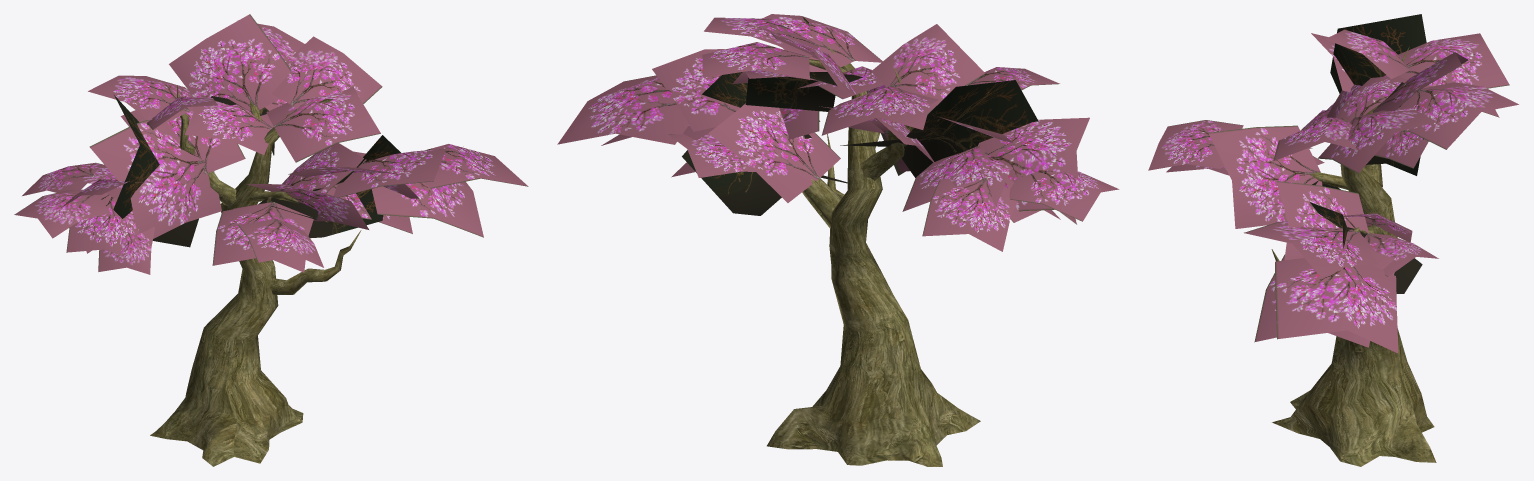
File: Scene_Tree_HongShu_1.FBX
3 views of the same model, side by side, from view 1: azimuth 30°, elevation 25°; view 2: azimuth 150°, elevation 25°; view 3: azimuth 270°, elevation 25° (orthographic). The views are drawn at different scales.
Parts seen in each view (by area): view 1: Scene_Tree_HongShu_1b, Scene_Tree_HongShu_1a; view 2: Scene_Tree_HongShu_1b, Scene_Tree_HongShu_1a; view 3: Scene_Tree_HongShu_1b, Scene_Tree_HongShu_1a.
Boxes of the visible parts, x1,y1,x2,y2 form: Scene_Tree_HongShu_1b: (14,14,528,274); Scene_Tree_HongShu_1a: (150,85,361,466); Scene_Tree_HongShu_1b: (557,14,1119,251); Scene_Tree_HongShu_1a: (767,16,980,466); Scene_Tree_HongShu_1b: (1148,14,1518,353); Scene_Tree_HongShu_1a: (1271,47,1436,466).
Size of the model in its own units: 864 by 668 by 565.
